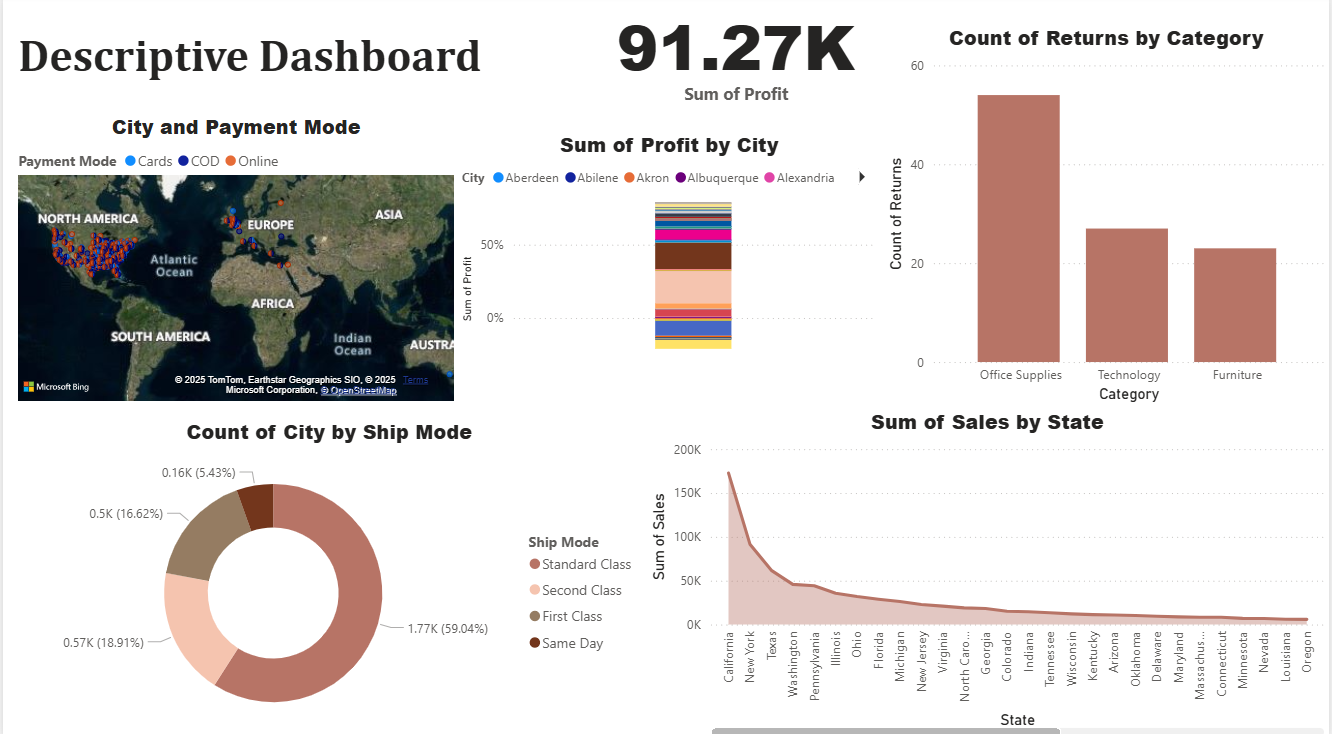

Layout of this report page (visuals, bound fields, positions):
{"tool":"powerbi","page":{"name":"Page 1","canvas":[1280,720],"ordinal":0},"visuals":[{"type":"map","fields":{"Series":["Table1.Payment Mode"],"Category":["Table1.City"]},"box":[9.6,113.9,430.9,284],"z":0},{"type":"hundredPercentStackedColumnChart","fields":{"Y":["Sum(Table1.Profit)"],"Series":["Table1.City"]},"box":[437.7,130.4,410.3,244.3],"z":1000},{"type":"donutChart","fields":{"Category":["Table1.Ship Mode"],"Y":["CountNonNull(Table1.City)"]},"box":[9.6,407.5,610.6,312.9],"z":2000},{"type":"columnChart","fields":{"Category":["Table1.Category"],"Y":["CountNonNull(Table1.Returns)"]},"box":[849.4,27.4,430.9,370.5],"z":3000},{"type":"card","fields":{"Values":["Sum(Table1.Profit)"]},"box":[565.4,0,284,113.9],"z":4000},{"type":"stackedAreaChart","fields":{"Category":["Table1.State"],"Y":["Sum(Table1.Sales)"]},"box":[620.2,397.9,660,322.5],"z":5000},{"type":"textbox","box":[9.6,27.4,494,60.4],"z":6000}]}

Visuals, with their boxes in screenshot pixels (x1, y1, x2, y2), scaled from the page's 1280x720 canvas onto the 1332x734 screenshot:
map - Table1.Payment Mode x Table1.City: [10, 116, 458, 406]
hundredPercentStackedColumnChart - Sum(Table1.Profit) x Table1.City: [455, 133, 882, 382]
donutChart - Table1.Ship Mode x CountNonNull(Table1.City): [10, 415, 645, 733]
columnChart - Table1.Category x CountNonNull(Table1.Returns): [884, 28, 1331, 406]
card - Sum(Table1.Profit): [588, 0, 884, 116]
stackedAreaChart - Table1.State x Sum(Table1.Sales): [645, 406, 1331, 733]
textbox: [10, 28, 524, 90]
